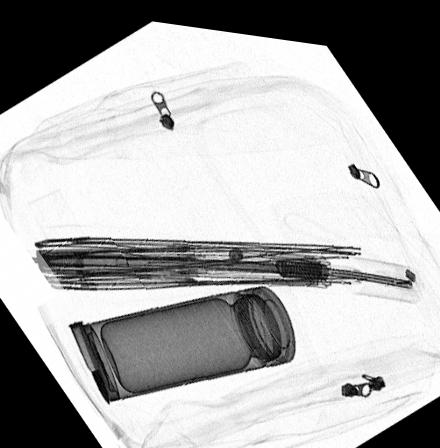Bullet: (67, 318, 109, 403)
